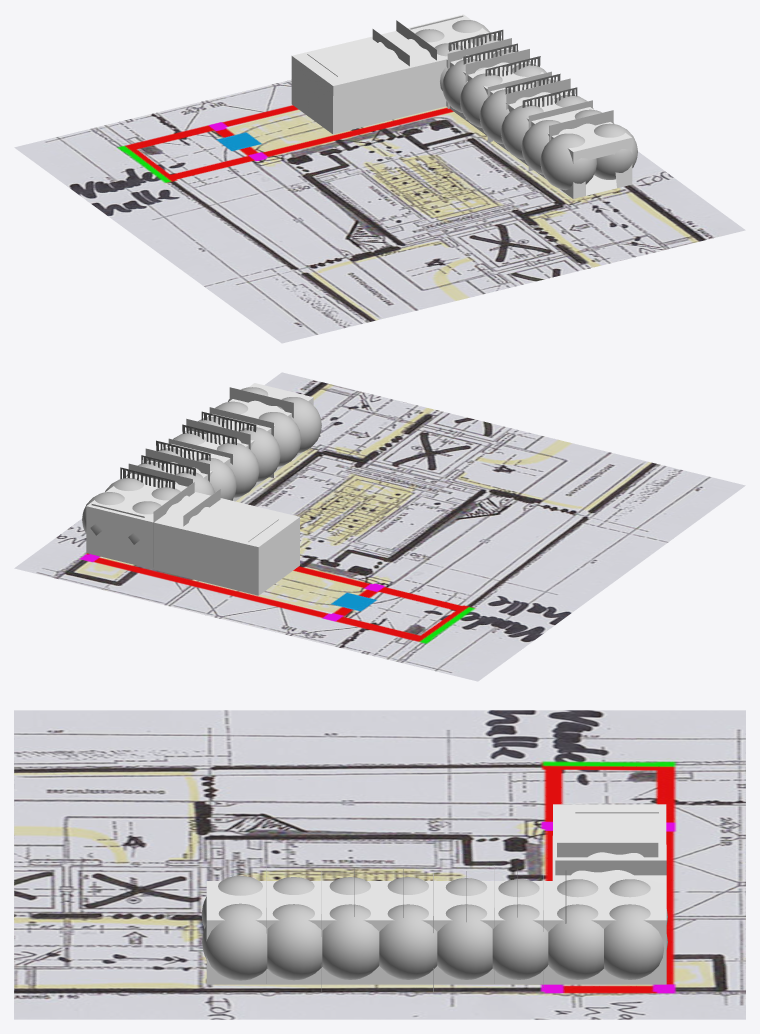
File: Reizdarm Model 3.dae
The picture shows the model from 3 angles, top to bottom: view 1: azimuth 30°, elevation 25°; view 2: azimuth 150°, elevation 25°; view 3: azimuth 270°, elevation 25°; orthographic projection. The views are drawn at different scales.
Parts seen in each view (by area): view 1: Plan, Wände, Decke, Schotten, Licht00, Lotten, Licht01, Licht08, Licht04, Licht06, Licht02, Licht10; view 2: Plan, Wände, Decke, Schotten, Lotten, Licht06, Licht02, Licht04, Licht00, Licht08, Licht15; view 3: Plan, Decke, Wände, Licht01, Licht15, Licht07, Licht05, Licht03, Licht11, Licht13, Licht09, Schotten (+8 smaller).
Boxes of the visible parts, x1,y1,x2,y2 form: Plan: (14,79,745,343); Wände: (291,56,632,198); Decke: (292,14,631,151); Schotten: (372,20,613,170); Licht00: (540,133,596,190); Lotten: (448,29,577,107); Licht01: (594,123,637,179); Licht08: (460,73,502,127); Licht04: (501,105,543,159); Licht06: (479,89,521,144); Licht02: (521,120,560,174); Licht10: (442,59,483,112); Plan: (14,372,745,681); Wände: (86,397,313,595); Decke: (86,383,312,546); Schotten: (128,387,293,567); Lotten: (120,411,256,489); Licht06: (216,442,259,497); Licht02: (258,412,301,466); Licht04: (239,427,280,481); Licht00: (278,397,321,453); Licht08: (197,458,236,500); Licht15: (82,492,124,535); Plan: (14,710,745,1019); Decke: (206,804,666,920); Wände: (206,920,666,984); Licht01: (202,903,267,980); Licht15: (604,904,667,979); Licht07: (379,904,437,979); Licht05: (322,904,379,979); Licht03: (267,904,322,980); Licht11: (492,904,548,979); Licht13: (548,904,603,979); Licht09: (437,904,492,979); Schotten: (266,842,666,992).
Size of the model in its own units: 3000 by 396 by 3000.
7 materials, 1 textured.
